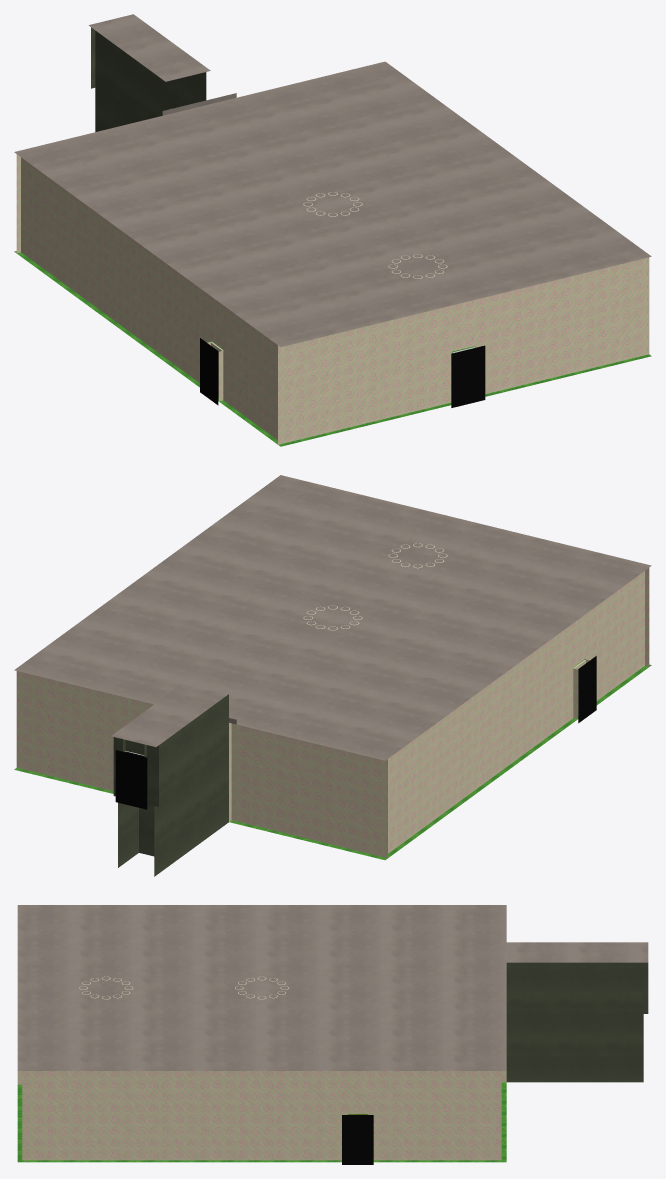
Rendered from rdwe_dining.glb.
The picture shows the model from 3 angles, top to bottom: view 1: azimuth 30°, elevation 25°; view 2: azimuth 150°, elevation 25°; view 3: azimuth 270°, elevation 25°; orthographic projection. The views are drawn at different scales.
Visible parts, largest first — view 1: Ceiling_Dining.001, Wall_Cream.001, Stair_Wall.001, Void.001, Shag_Green.001; view 2: Ceiling_Dining.001, Wall_Cream.001, Stair_Wall.001, Void.001, Shag_Green.001; view 3: Ceiling_Dining.001, Wall_Cream.001, Stair_Wall.001, Shag_Green.001, Void.001, Trim_Cream.
Part boxes in pixels (bbox=[...]): Ceiling_Dining.001: bbox=[14, 14, 651, 346]; Wall_Cream.001: bbox=[16, 154, 649, 444]; Stair_Wall.001: bbox=[91, 27, 206, 131]; Void.001: bbox=[200, 338, 485, 407]; Shag_Green.001: bbox=[14, 251, 651, 446]; Ceiling_Dining.001: bbox=[14, 475, 651, 760]; Wall_Cream.001: bbox=[16, 568, 649, 858]; Stair_Wall.001: bbox=[113, 694, 228, 876]; Void.001: bbox=[115, 656, 596, 809]; Shag_Green.001: bbox=[14, 659, 651, 860]; Ceiling_Dining.001: bbox=[17, 905, 648, 1070]; Wall_Cream.001: bbox=[17, 1071, 506, 1160]; Stair_Wall.001: bbox=[506, 962, 648, 1082]; Shag_Green.001: bbox=[17, 1082, 506, 1162]; Void.001: bbox=[342, 1115, 373, 1164]; Trim_Cream: bbox=[79, 976, 288, 999].
Size of the model in its own units: 16.7 by 5.65 by 26.62.
Materials: 28 (17 with a texture image).
